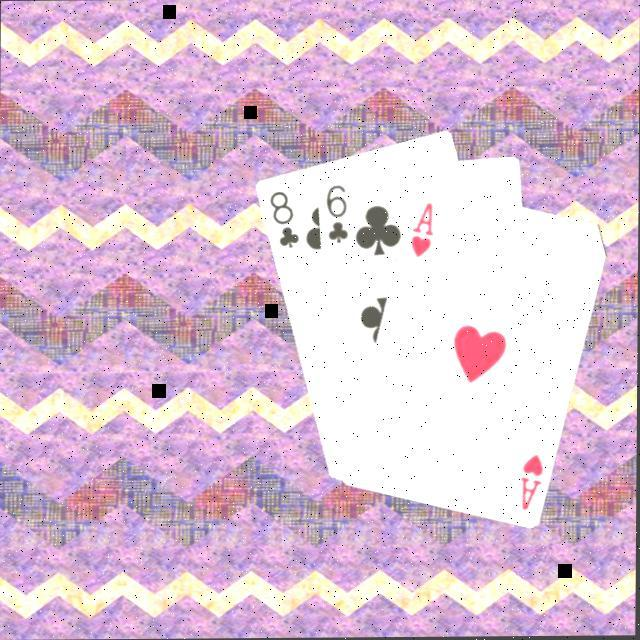6C: (324, 182, 352, 246)
8C: (267, 188, 303, 252)
AH: (408, 200, 438, 262), (518, 452, 548, 514)
